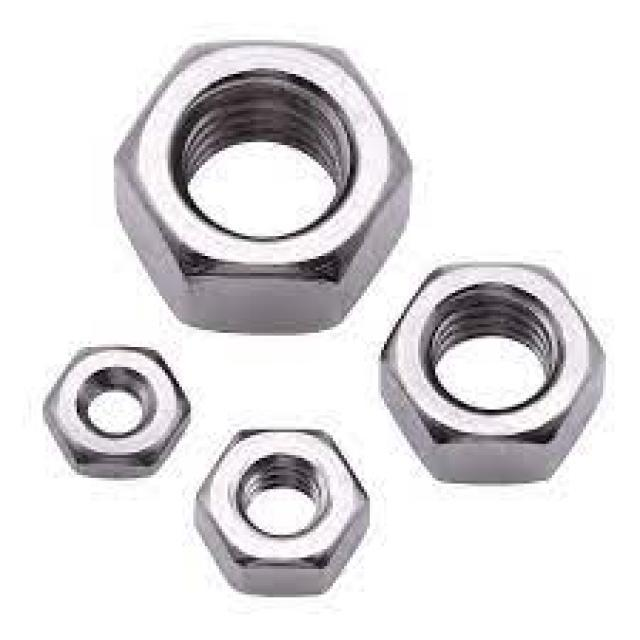Dry: (106, 32, 414, 339), (374, 256, 610, 490), (188, 424, 374, 602), (39, 338, 198, 484)
